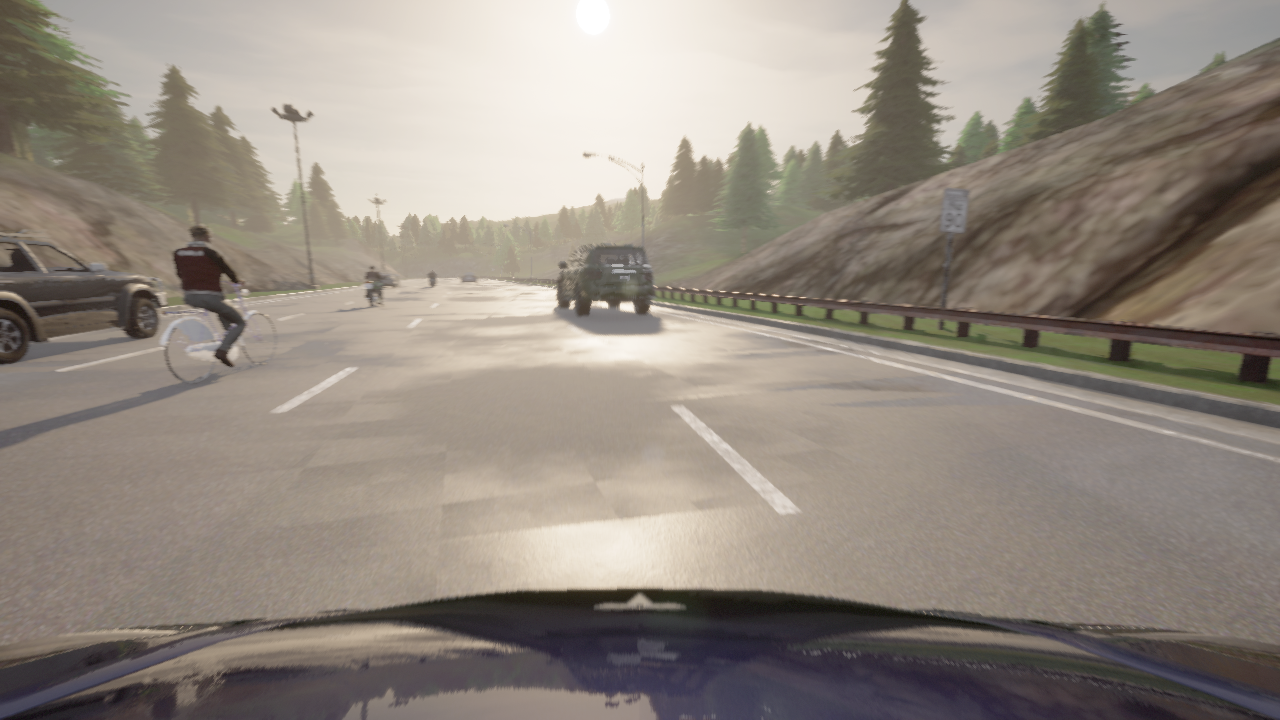cyclist: (0, 588, 1279, 719), (161, 281, 276, 383), (557, 244, 654, 315), (363, 276, 386, 307), (379, 272, 400, 288), (459, 272, 478, 284), (429, 275, 436, 287)
